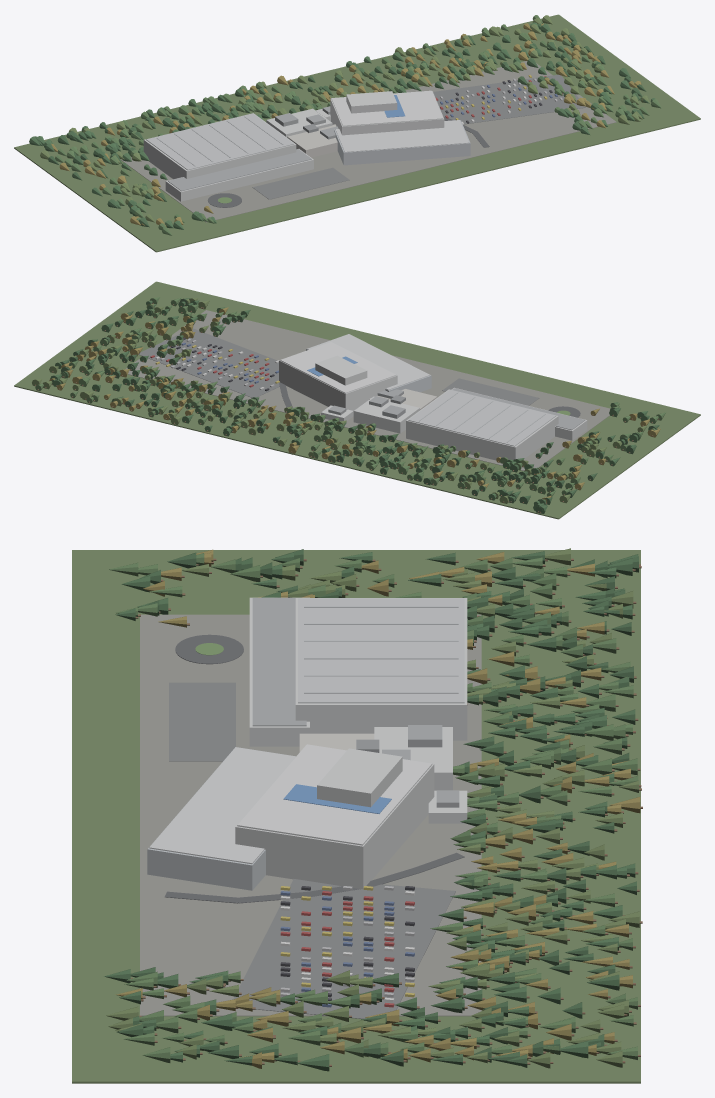
The model's file is fab_facility.glb.
3 views of the same model, one above another, from view 1: azimuth 30°, elevation 25°; view 2: azimuth 150°, elevation 25°; view 3: azimuth 270°, elevation 25° (orthographic). The views are drawn at different scales.
Parts seen in each view (by area): view 1: ground, site_pad, fab_roof, parking_lot, office_roof, tall_roof, office, fab_main, fab_front_wing, wing_roof, front_lot, fab_tall (+3 smaller); view 2: ground, site_pad, fab_roof, parking_lot, fab_main, fab_tall, tall_roof, office_roof, support_1, tall_step, front_lot, wing_roof (+3 smaller); view 3: ground, site_pad, fab_roof, parking_lot, fab_tall, office_roof, tall_roof, wing_roof, fab_main, front_lot, tall_step, office (+6 smaller).
Part boxes in pixels (x1=…): ground: x1=14, y1=14, x2=700, y2=252; site_pad: x1=121, y1=61, x2=616, y2=222; fab_roof: x1=146, y1=113, x2=293, y2=170; parking_lot: x1=433, y1=74, x2=585, y2=124; office_roof: x1=335, y1=120, x2=468, y2=152; tall_roof: x1=331, y1=90, x2=443, y2=126; office: x1=334, y1=120, x2=470, y2=165; fab_main: x1=143, y1=113, x2=296, y2=179; fab_front_wing: x1=165, y1=149, x2=313, y2=201; wing_roof: x1=168, y1=149, x2=311, y2=191; front_lot: x1=252, y1=167, x2=349, y2=199; fab_tall: x1=330, y1=91, x2=444, y2=135; ground: x1=14, y1=281, x2=700, y2=519; site_pad: x1=125, y1=310, x2=609, y2=470; fab_roof: x1=408, y1=389, x2=556, y2=446; parking_lot: x1=138, y1=328, x2=279, y2=397; fab_main: x1=406, y1=389, x2=558, y2=460; fab_tall: x1=279, y1=360, x2=397, y2=410; tall_roof: x1=280, y1=342, x2=396, y2=393; office_roof: x1=307, y1=334, x2=429, y2=389; support_1: x1=353, y1=396, x2=419, y2=433; tall_step: x1=315, y1=355, x2=367, y2=385; front_lot: x1=442, y1=378, x2=539, y2=405; wing_roof: x1=452, y1=388, x2=585, y2=430; ground: x1=72, y1=550, x2=640, y2=1083; site_pad: x1=140, y1=614, x2=481, y2=1016; fab_roof: x1=298, y1=598, x2=464, y2=703; parking_lot: x1=233, y1=879, x2=455, y2=1018; fab_tall: x1=235, y1=745, x2=434, y2=889; office_roof: x1=149, y1=747, x2=295, y2=864; tall_roof: x1=237, y1=744, x2=432, y2=845; wing_roof: x1=252, y1=598, x2=306, y2=726; fab_main: x1=295, y1=598, x2=467, y2=740; front_lot: x1=169, y1=682, x2=235, y2=761; tall_step: x1=317, y1=748, x2=402, y2=807; office: x1=147, y1=747, x2=294, y2=890.
Bounding box in the file's own units: 220 × 12.3 × 99.77.
